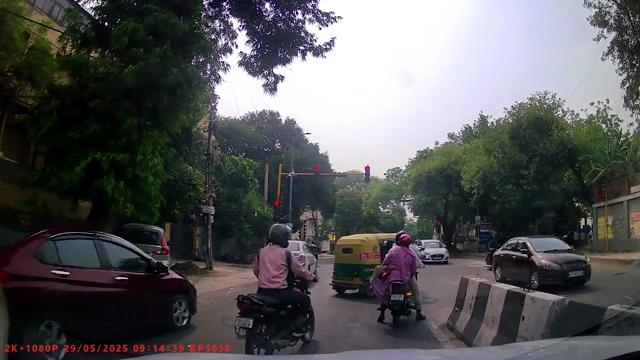motorcycle_with_helmet: (233, 221, 317, 353)
passenger_with_helmet: (372, 229, 426, 328)
